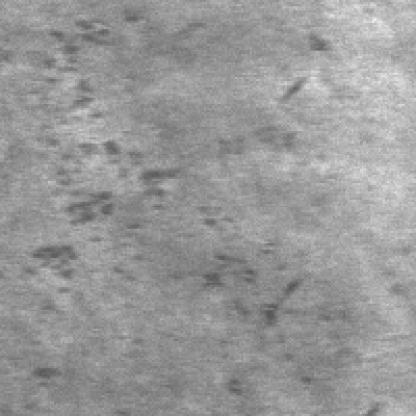rolled-in_scale: (35, 15, 177, 339), (200, 108, 316, 341)
